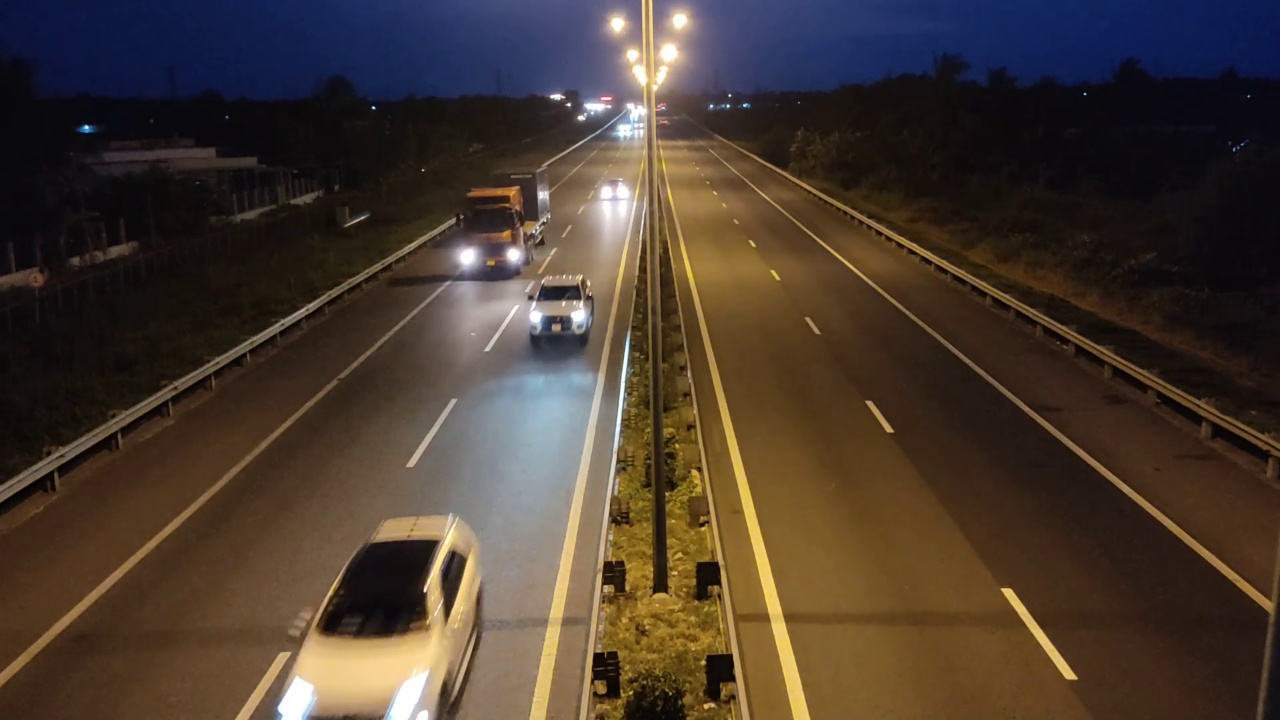car: (273, 513, 485, 717), (526, 273, 595, 349)
truck: (454, 165, 549, 282)
